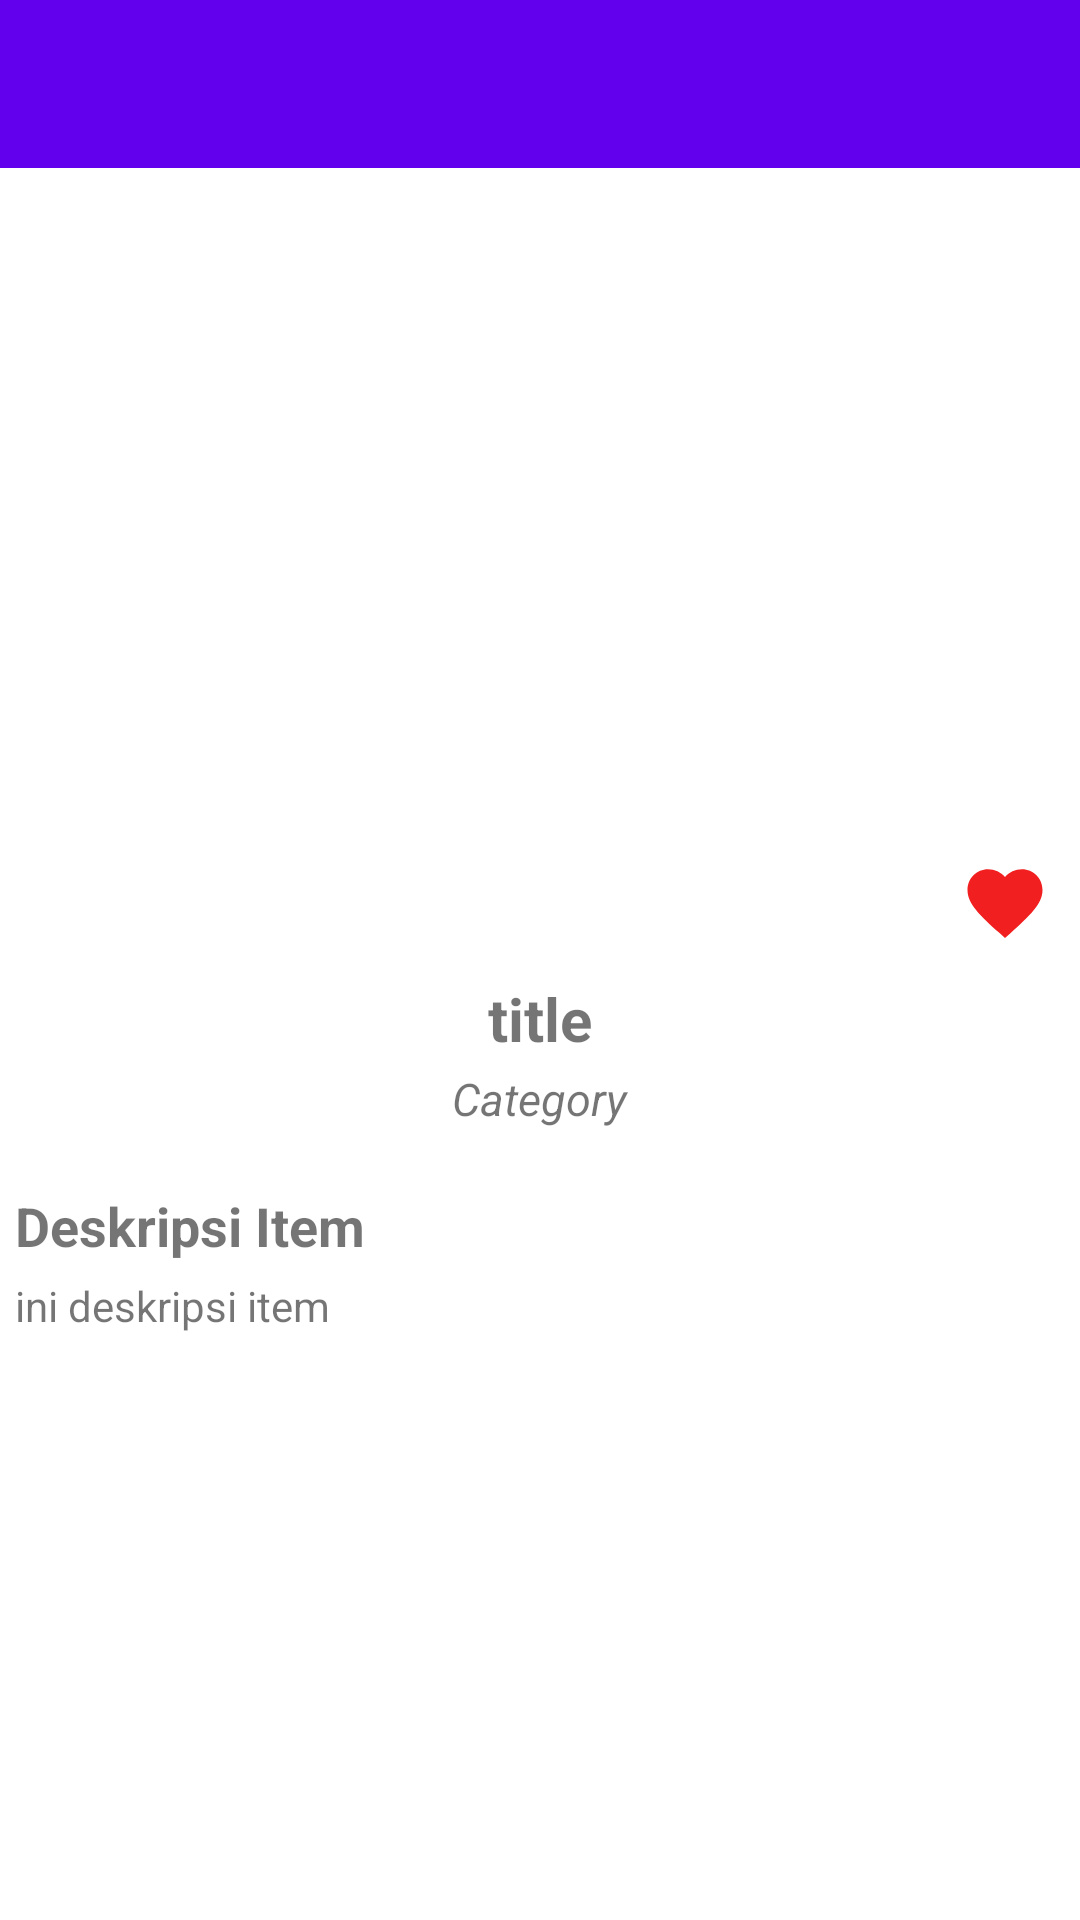

Named icons in this screenshot (1080w x 1920h) and their centers, point (x, y):
favorite: point (1005, 903)
